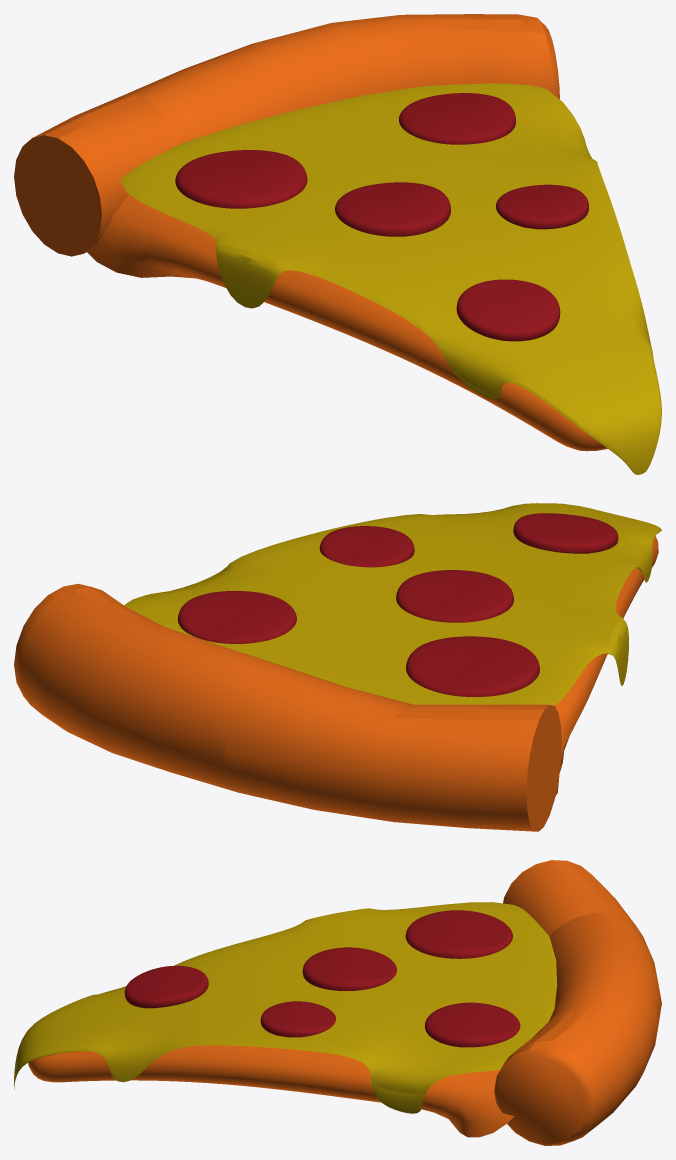
The model's file is pizza.fbx.
The picture shows the model from 3 angles, top to bottom: view 1: azimuth 30°, elevation 25°; view 2: azimuth 150°, elevation 25°; view 3: azimuth 270°, elevation 25°; orthographic projection. The views are drawn at different scales.
Parts seen in each view (by area): view 1: Cube.001, Cylinder, Cylinder.001, Cube; view 2: Cylinder, Cube.001, Cylinder.001, Cube; view 3: Cube.001, Cylinder, Cylinder.001, Cube.
Part boxes in pixels (x1,y1,x2,y2): Cube.001: (120, 83, 661, 474); Cylinder: (14, 14, 559, 256); Cylinder.001: (175, 93, 588, 341); Cube: (87, 194, 607, 451); Cylinder: (14, 583, 561, 831); Cube.001: (124, 503, 661, 705); Cylinder.001: (178, 513, 618, 696); Cube: (555, 536, 658, 796); Cube.001: (14, 902, 557, 1113); Cylinder: (494, 860, 661, 1145); Cylinder.001: (124, 910, 520, 1047); Cube: (28, 1045, 513, 1137).
Size of the model in its own units: 71.99 by 22.44 by 96.42.
